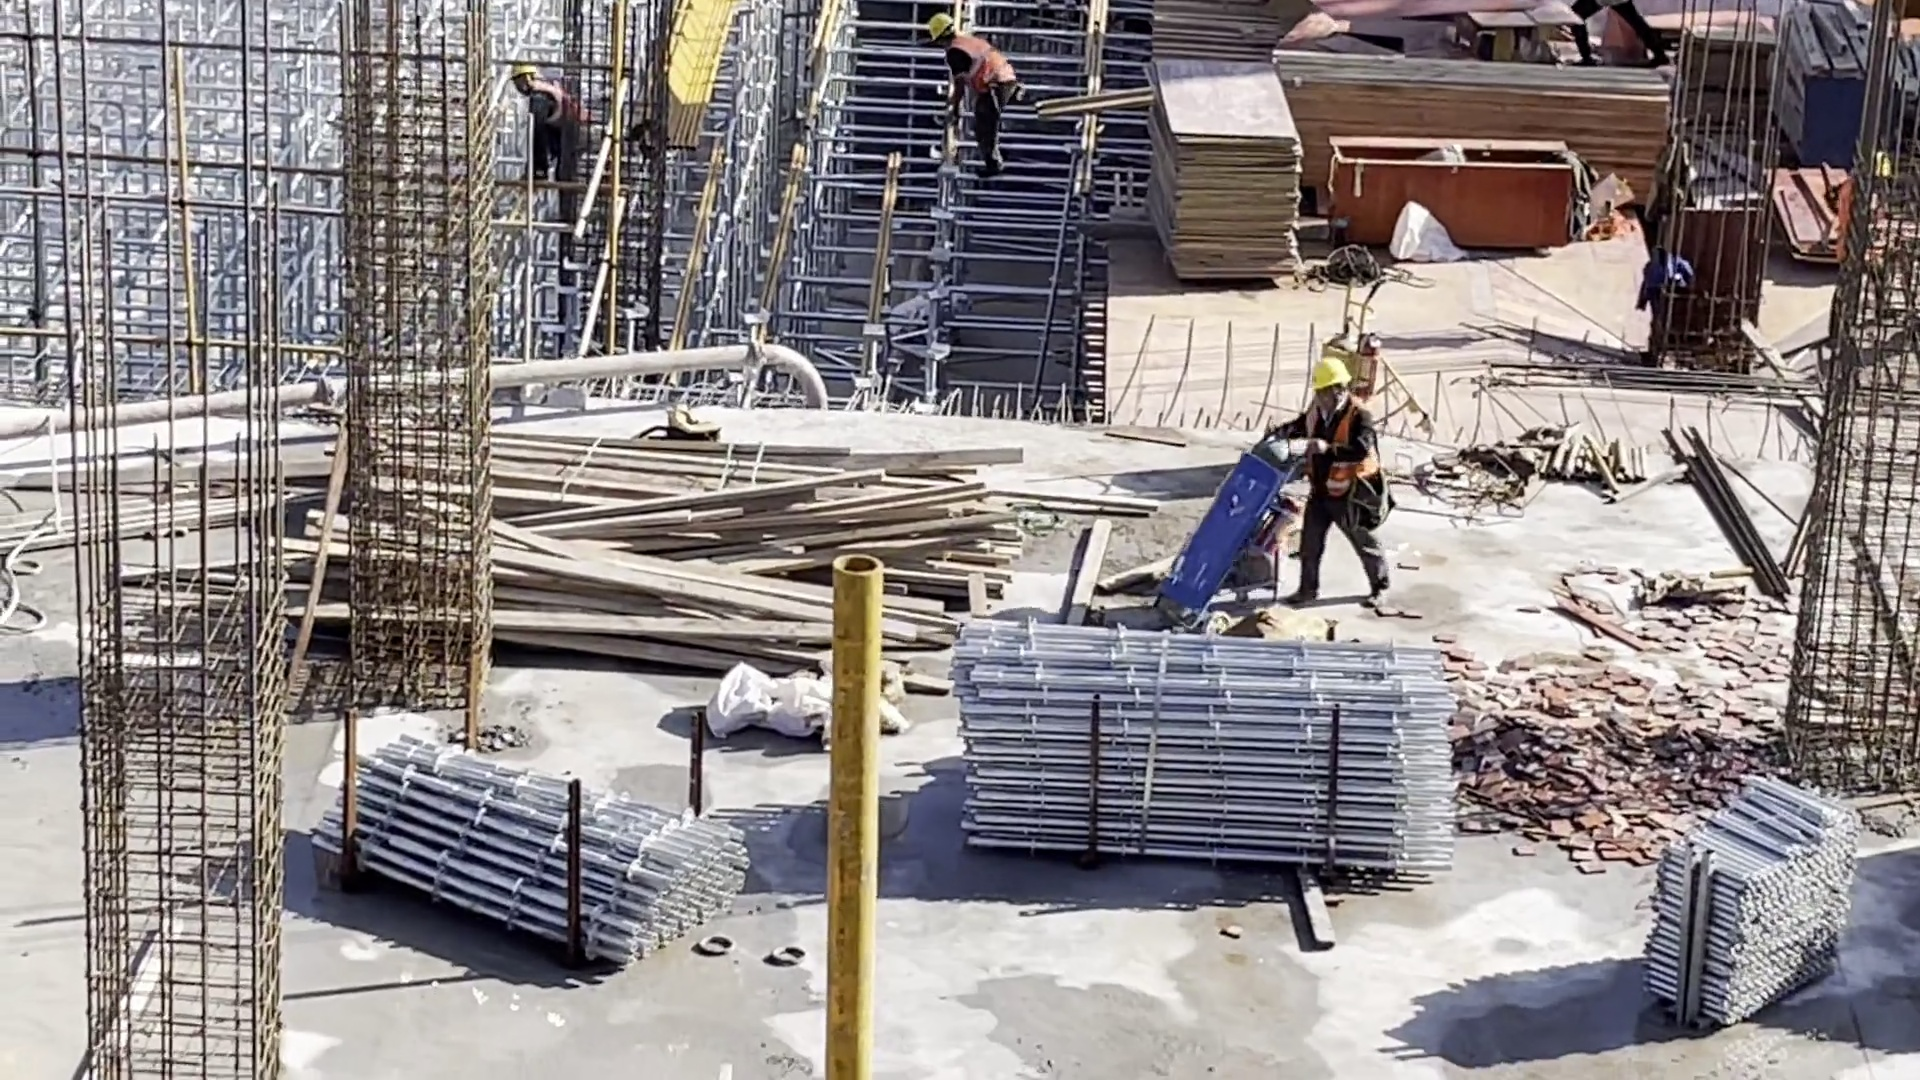board: (1134, 69, 1300, 289), (1132, 1, 1287, 62), (1772, 169, 1864, 267)
helmet: (1302, 353, 1358, 396), (924, 16, 954, 44)
person: (1279, 342, 1400, 600), (920, 6, 1032, 177), (491, 63, 607, 208), (1557, 1, 1678, 63)
rebar: (1663, 422, 1804, 600), (1477, 349, 1822, 403)
scaffold: (945, 626, 1464, 873), (306, 729, 760, 980), (1639, 769, 1864, 1033)
vest: (1297, 401, 1371, 501), (951, 38, 1015, 104)
wood: (468, 425, 1038, 675), (1267, 54, 1668, 128)
